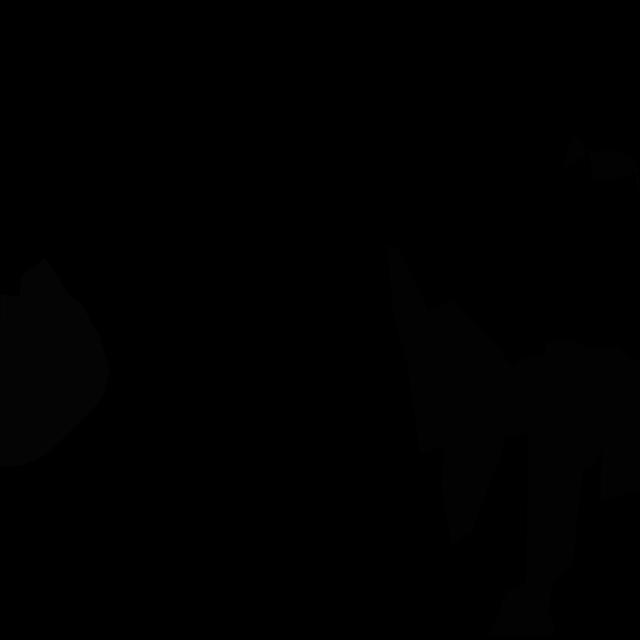cardboard: (387, 244, 640, 638), (601, 404, 640, 500), (588, 150, 640, 210), (563, 134, 588, 170)
soft_plastic: (0, 258, 110, 467)
